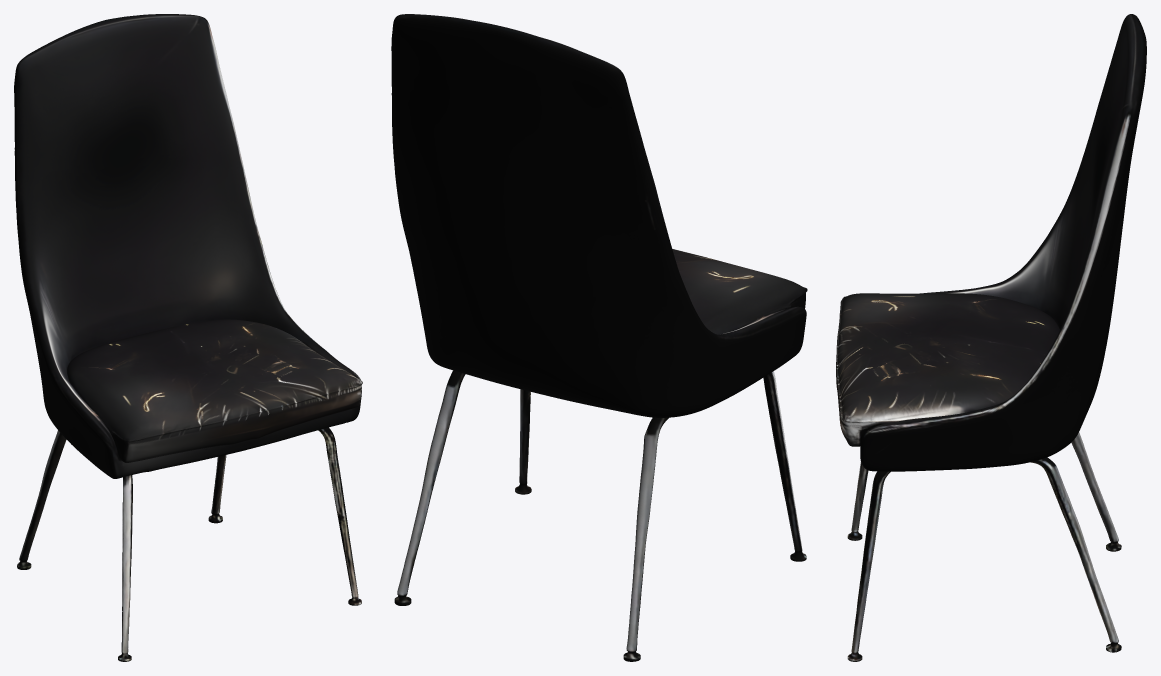
3 views of the same model, side by side, from view 1: azimuth 30°, elevation 25°; view 2: azimuth 150°, elevation 25°; view 3: azimuth 270°, elevation 25° (orthographic). The views are drawn at different scales.
Visible parts, largest first — view 1: root.0, root.1, root.3, root.2; view 2: root.0, root.1, root.3, root.2; view 3: root.0, root.1, root.2, root.3.
Boxes of the visible parts, bbox=[...] form: root.0: bbox=[14, 14, 361, 478]; root.1: bbox=[67, 319, 362, 462]; root.3: bbox=[17, 430, 132, 661]; root.2: bbox=[208, 427, 361, 605]; root.0: bbox=[391, 14, 806, 417]; root.1: bbox=[672, 249, 807, 334]; root.3: bbox=[623, 371, 806, 661]; root.2: bbox=[394, 370, 531, 605]; root.0: bbox=[860, 14, 1146, 471]; root.1: bbox=[836, 293, 1059, 446]; root.2: bbox=[847, 457, 1121, 661]; root.3: bbox=[847, 432, 1121, 551].
Size of the model in its own units: 0.5144 by 0.985 by 0.5014.
4 materials, 4 textured.
